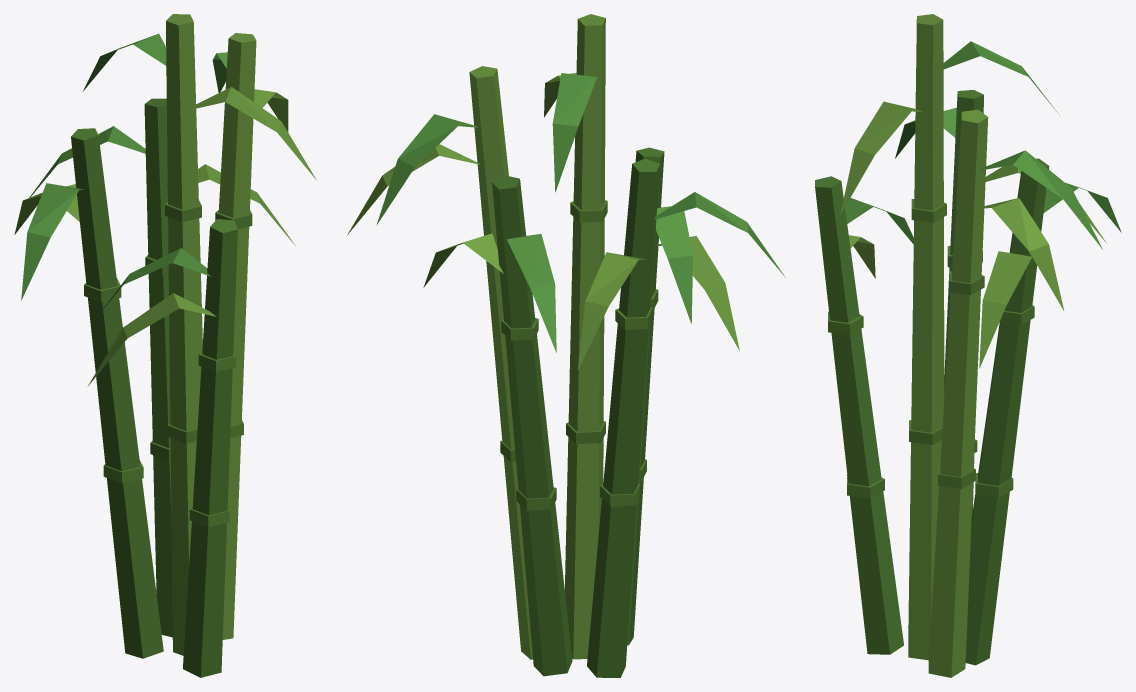
File: Scatter_BambooClump.fbx
3 renders of one model, left to right at view 1: azimuth 30°, elevation 25°; view 2: azimuth 150°, elevation 25°; view 3: azimuth 270°, elevation 25°, orthographic.
Visible parts, largest first — view 1: BambooClump; view 2: BambooClump; view 3: BambooClump.
Boxes of the visible parts, x1,y1,x2,y2 form: BambooClump: (14, 14, 316, 677); BambooClump: (347, 14, 785, 677); BambooClump: (815, 14, 1121, 677).
Bounding box in the file's own units: 9.93 × 17.06 × 7.53.
